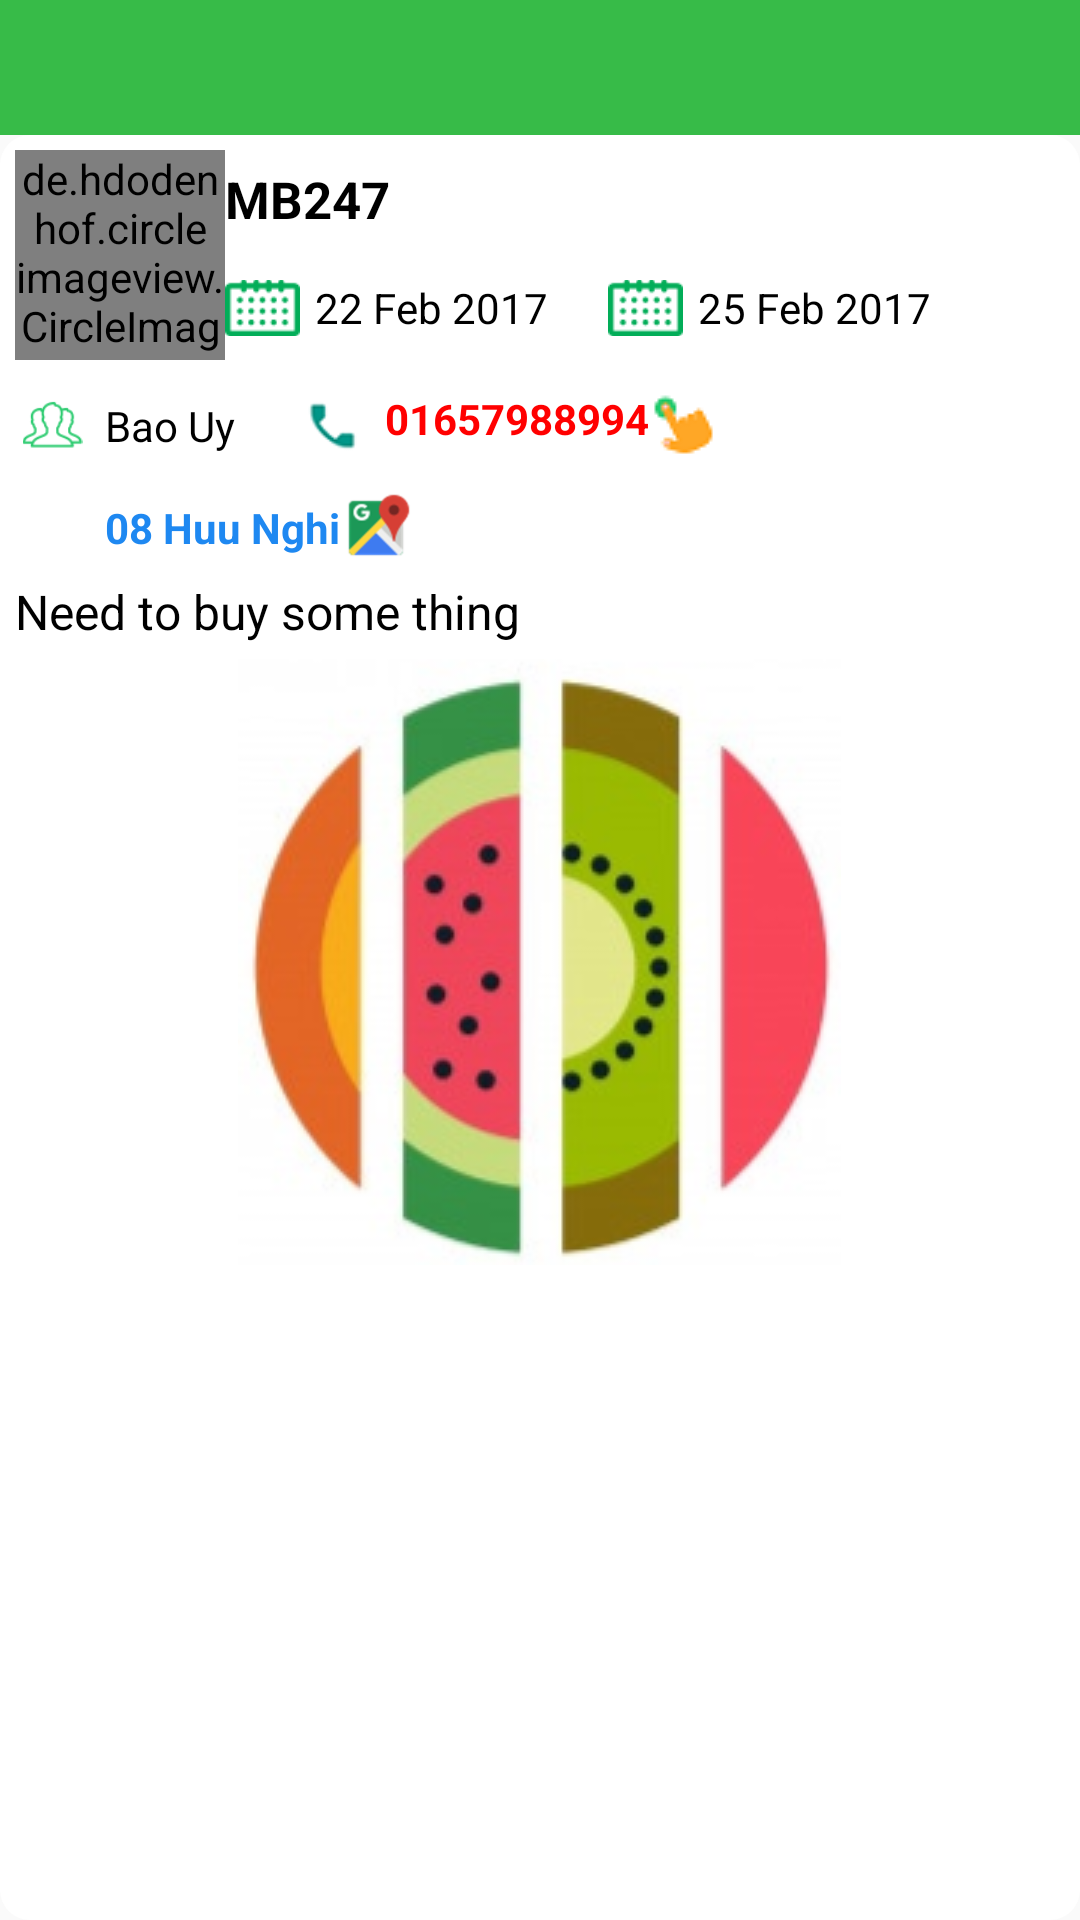

Where to tap for icons on this 1080 × 1920 app screen, as point (x, y):
calendar: point (262, 308), point (645, 308)
people: point (53, 425)
phone: point (332, 426)
